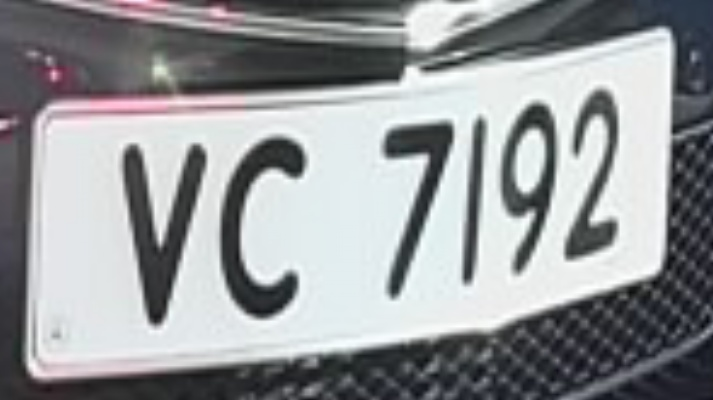1: (453, 89, 501, 308)
2: (560, 64, 631, 275)
7: (365, 88, 464, 330)
9: (494, 82, 567, 290)
C: (208, 113, 320, 339)
V: (107, 123, 218, 344)
